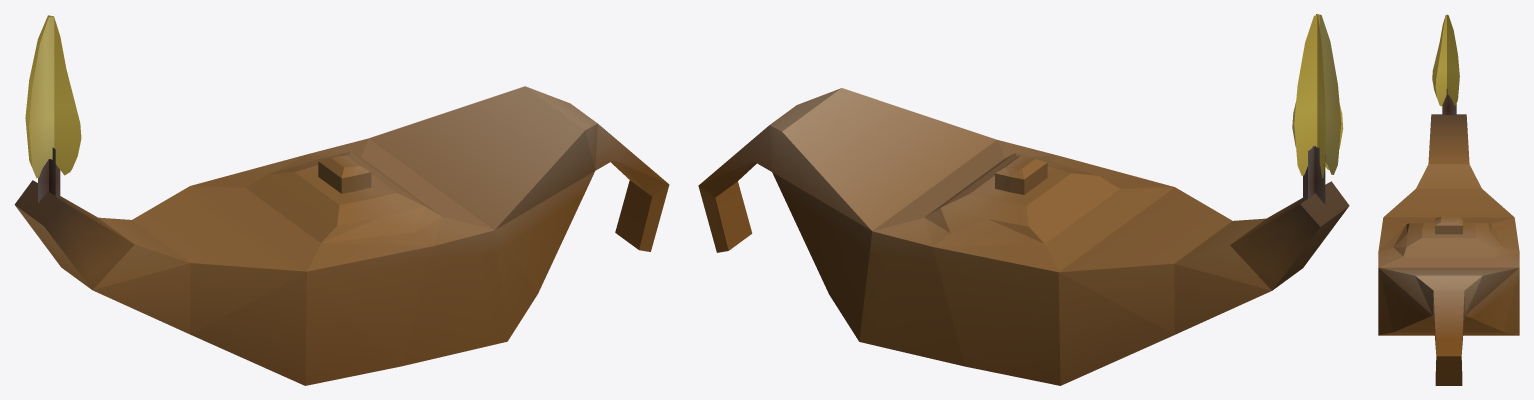
The model's file is candle_338x08.obj.
3 views of the same model, side by side, from view 1: azimuth 30°, elevation 25°; view 2: azimuth 150°, elevation 25°; view 3: azimuth 270°, elevation 25° (orthographic). The views are drawn at different scales.
Visible parts, largest first — view 1: Candle_338x8; view 2: Candle_338x8; view 3: Candle_338x8.
Boxes of the visible parts, x1,y1,x2,y2 form: Candle_338x8: (14,15,669,385); Candle_338x8: (698,14,1349,385); Candle_338x8: (1378,14,1519,385).
Bounding box in the file's own units: 1.15 × 0.6576 × 0.3964.
